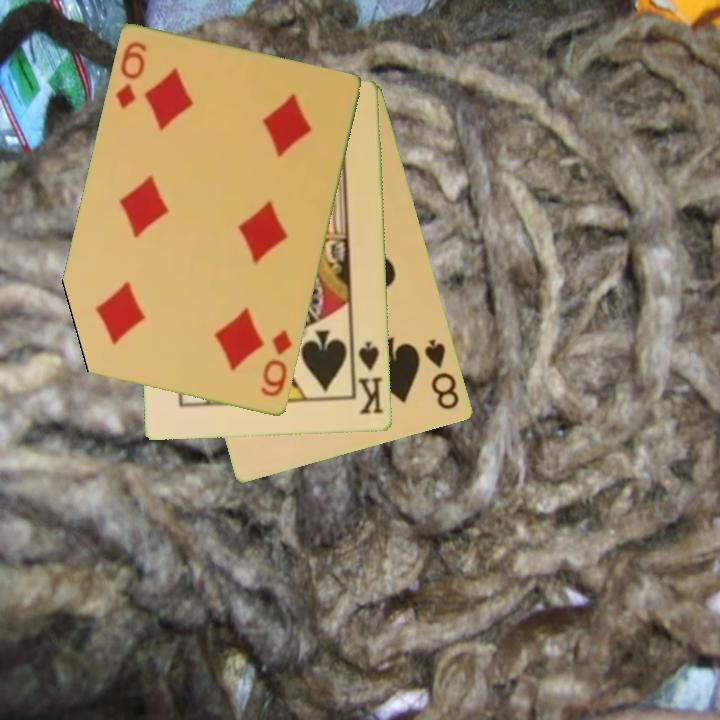6d: (257, 327, 295, 401), (113, 38, 150, 113)
8s: (421, 335, 463, 413)
Ks: (351, 339, 387, 417)
